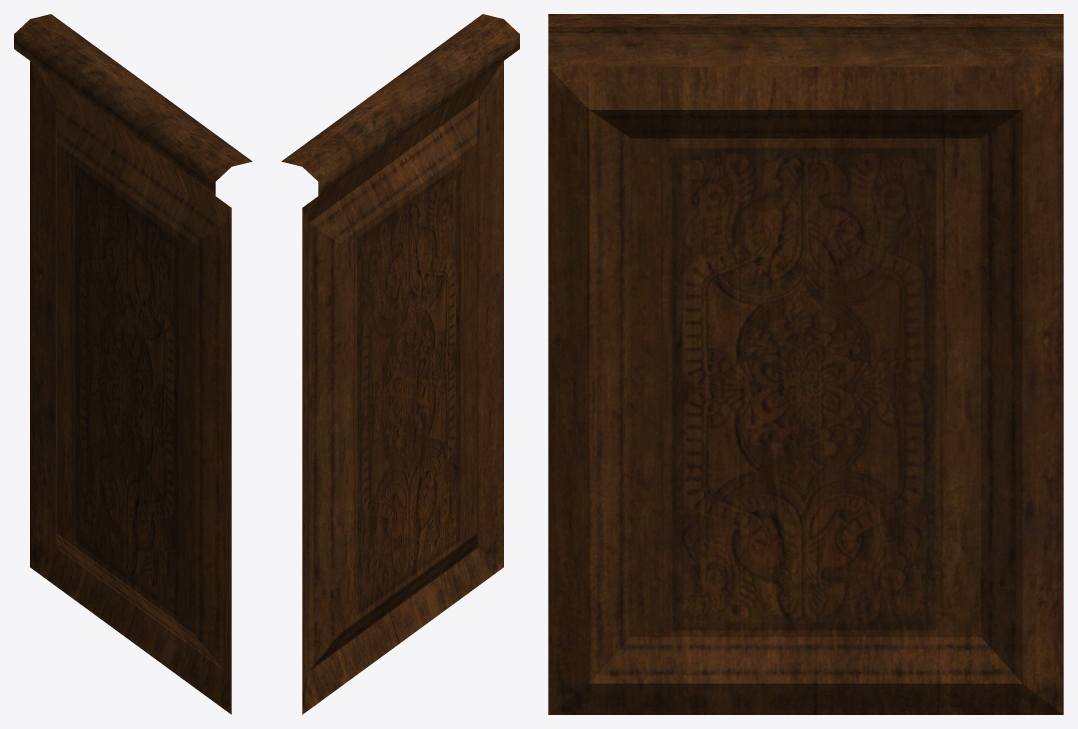
Rendered from wood_panneling_tiny.DAE.
3 renders of one model, left to right at view 1: azimuth 30°, elevation 25°; view 2: azimuth 150°, elevation 25°; view 3: azimuth 270°, elevation 25°, orthographic. The views are drawn at different scales.
Visible parts, largest first — view 1: Box007; view 2: Box007; view 3: Box007.
Part boxes in pixels (bbox=[...]): Box007: bbox=[14, 14, 252, 714]; Box007: bbox=[281, 14, 519, 714]; Box007: bbox=[548, 14, 1063, 714].
Size of the model in its own units: 0.1061 by 1.5 by 1.
